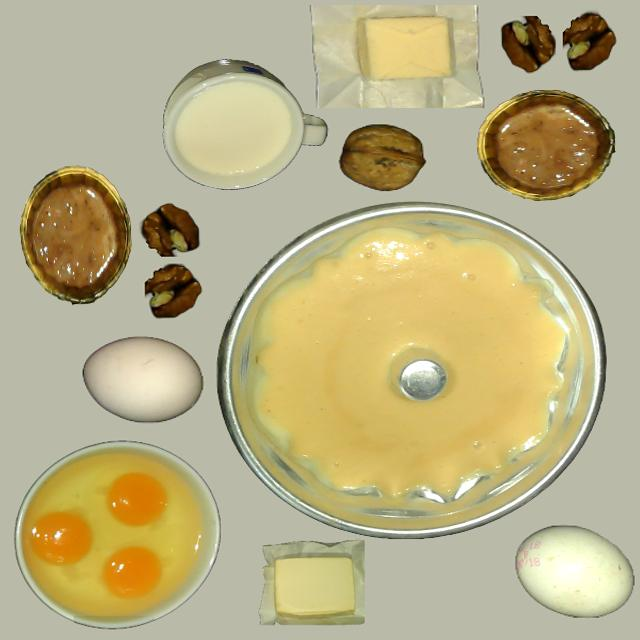Egg: (30, 512, 93, 564), (107, 473, 166, 526), (102, 546, 162, 596)
Milk: (178, 83, 288, 176)
Walnut: (339, 124, 424, 191)
